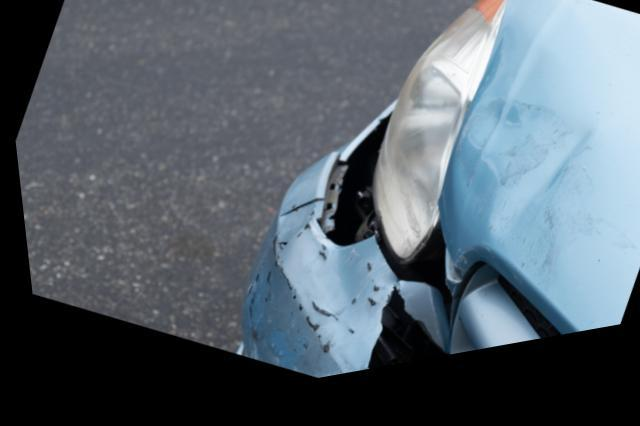crack: (353, 297, 434, 381), (272, 209, 318, 226)
dent: (455, 121, 584, 302)
scratch: (234, 212, 382, 388)
